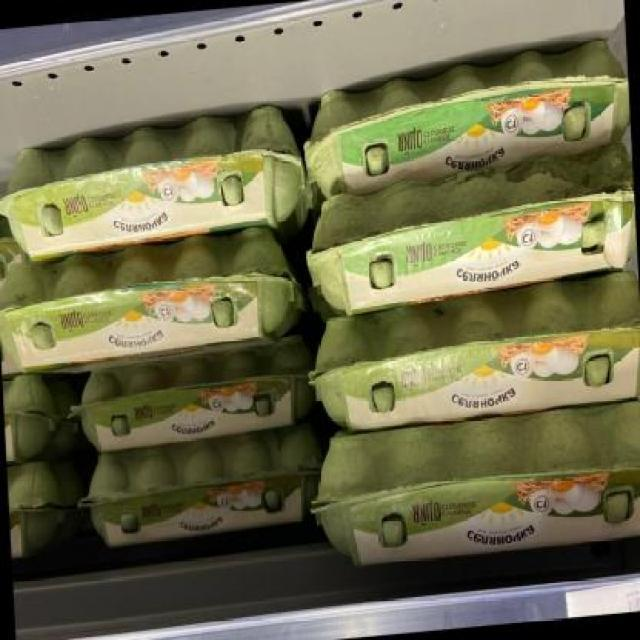egg: (304, 36, 632, 208), (304, 156, 638, 318), (316, 403, 640, 569), (311, 278, 640, 440), (0, 103, 309, 271), (0, 227, 306, 386), (74, 429, 326, 559), (68, 346, 318, 459), (6, 455, 74, 563), (1, 365, 68, 473)
